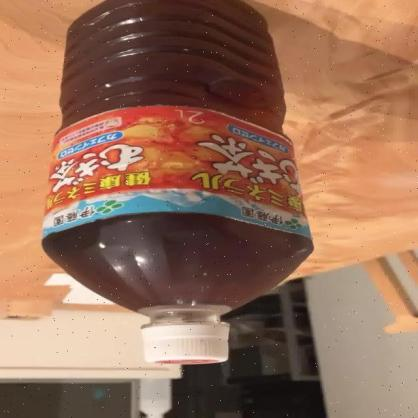bottle: (40, 0, 317, 367)
cap: (138, 320, 236, 380)
label: (43, 112, 314, 236)
